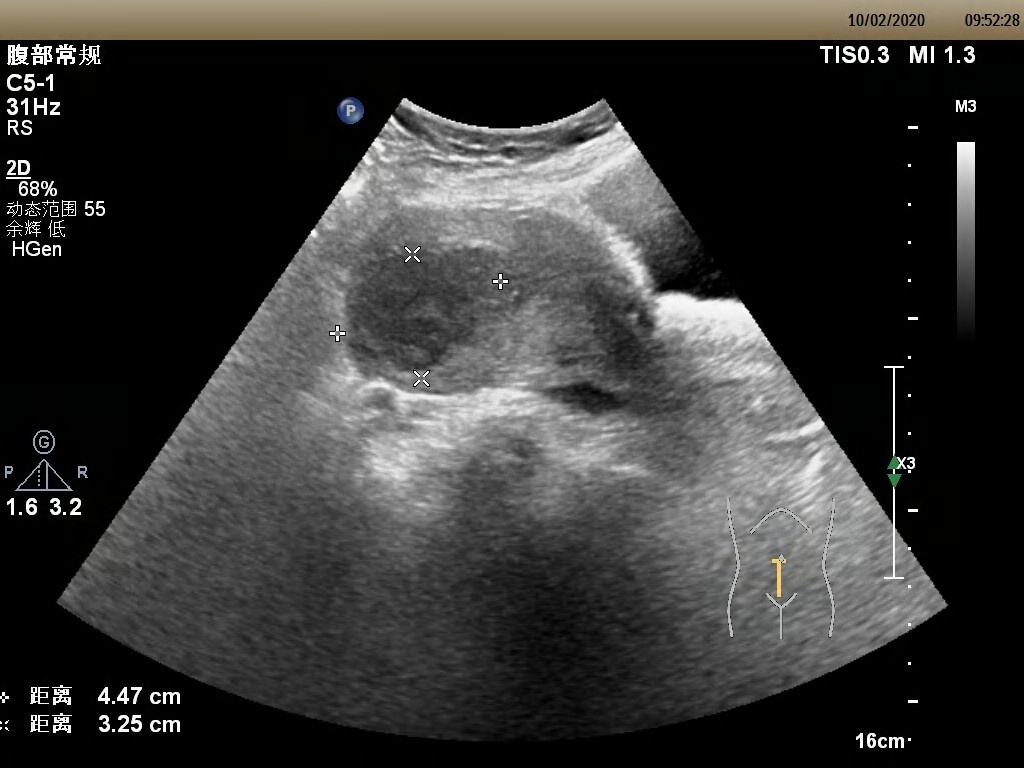肌瘤: (342, 248, 503, 385)
